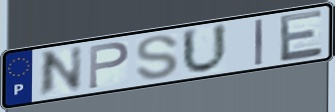E: (277, 7, 325, 64)
I: (253, 17, 265, 67)
N: (36, 44, 85, 101)
P: (87, 40, 131, 91)
S: (134, 34, 182, 82)
U: (180, 21, 230, 76)
